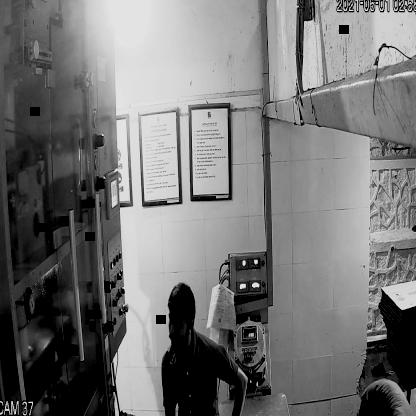no_goggles: (167, 313, 193, 334)
